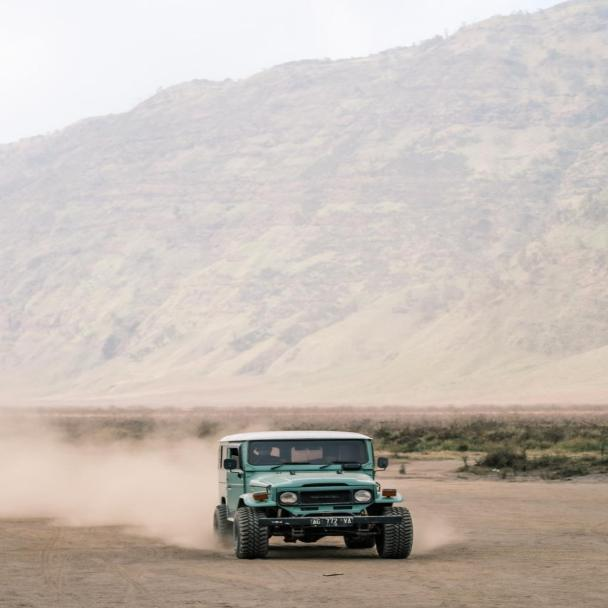Mobil: (214, 428, 418, 568)
